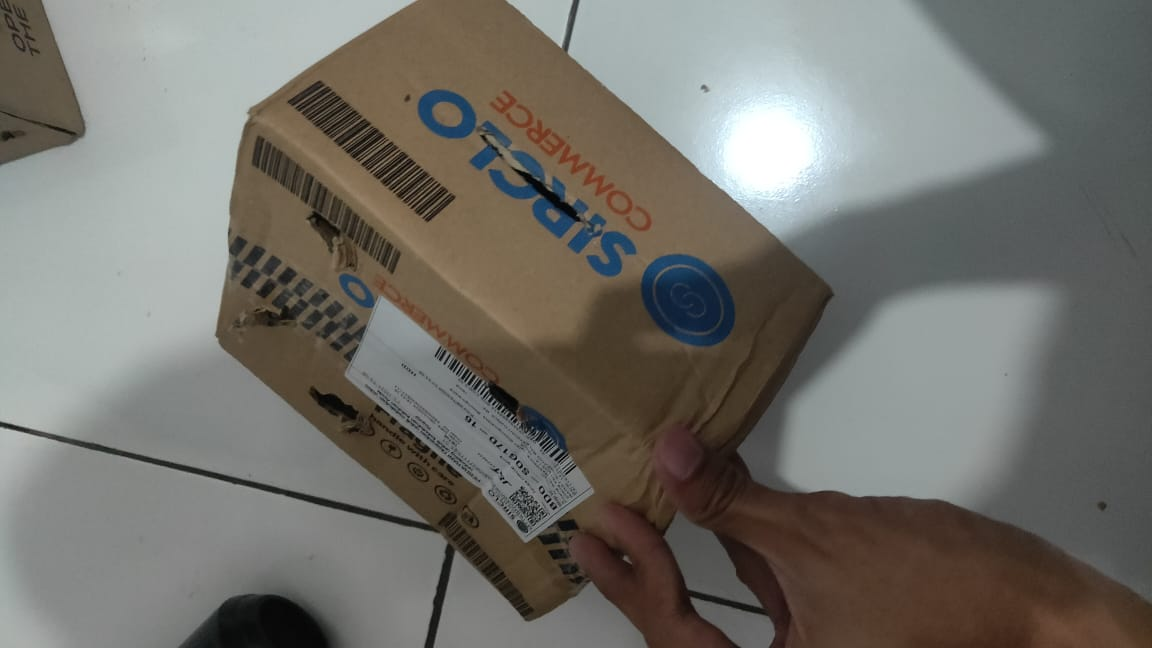damaged package: (463, 109, 613, 240), (482, 374, 547, 442), (298, 214, 361, 275), (304, 386, 374, 435), (231, 300, 300, 333)
undamaged: (205, 0, 841, 640)
